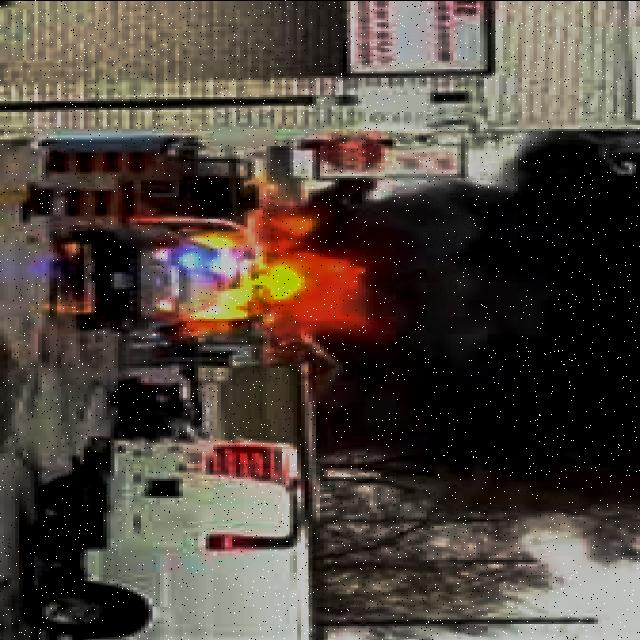api: (150, 206, 398, 368)
